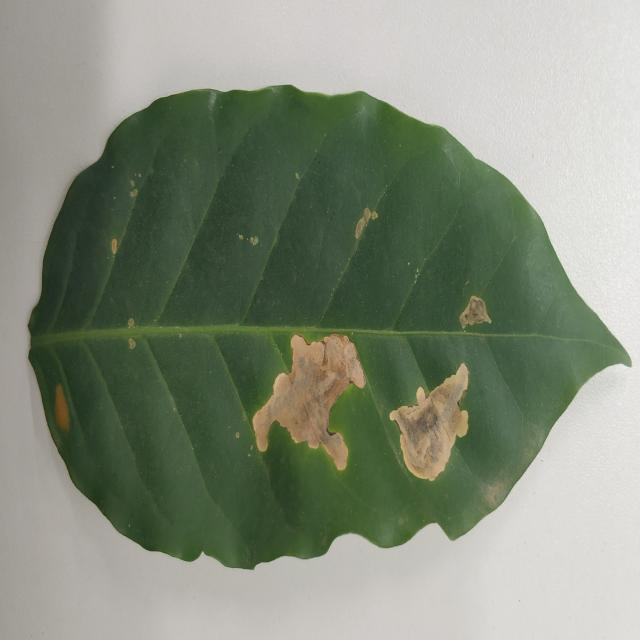Plaga-Minador: (27, 84, 632, 573)
